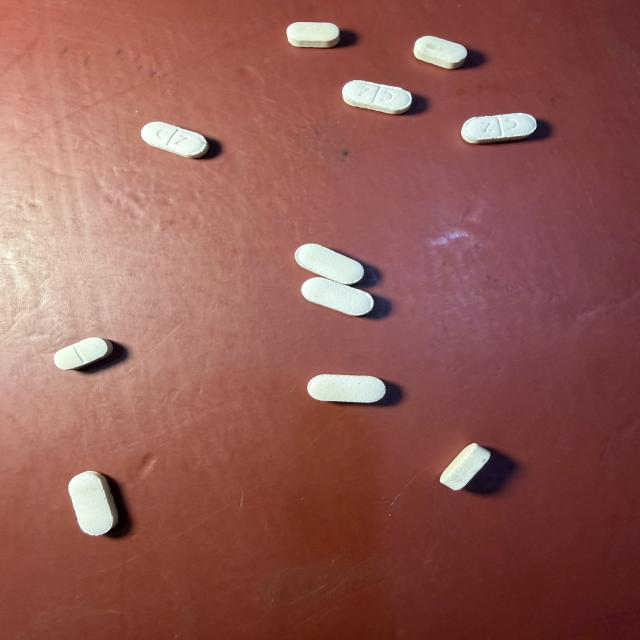pill: (69, 471, 118, 535), (295, 244, 364, 284), (302, 278, 373, 316), (141, 122, 208, 158), (343, 80, 412, 114), (440, 444, 490, 490), (462, 113, 536, 143), (308, 375, 385, 402), (54, 338, 113, 369), (414, 36, 467, 68), (287, 23, 339, 47)
